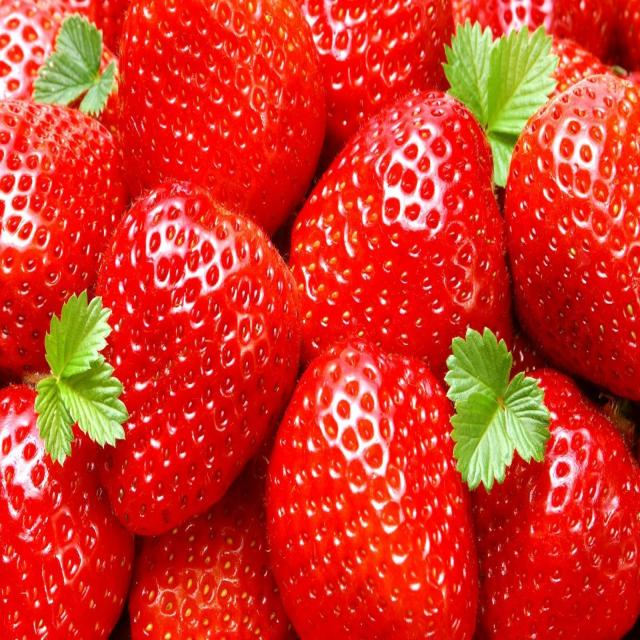Quả dâu tây: (1, 0, 638, 639), (91, 178, 301, 536), (288, 89, 514, 382), (116, 0, 327, 237), (0, 96, 127, 383)
